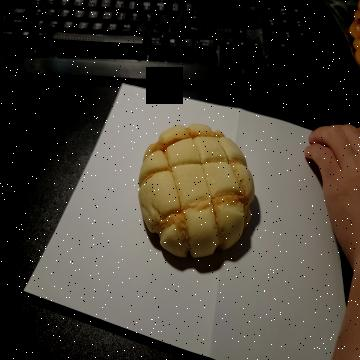melon_bread: (140, 124, 255, 264)
